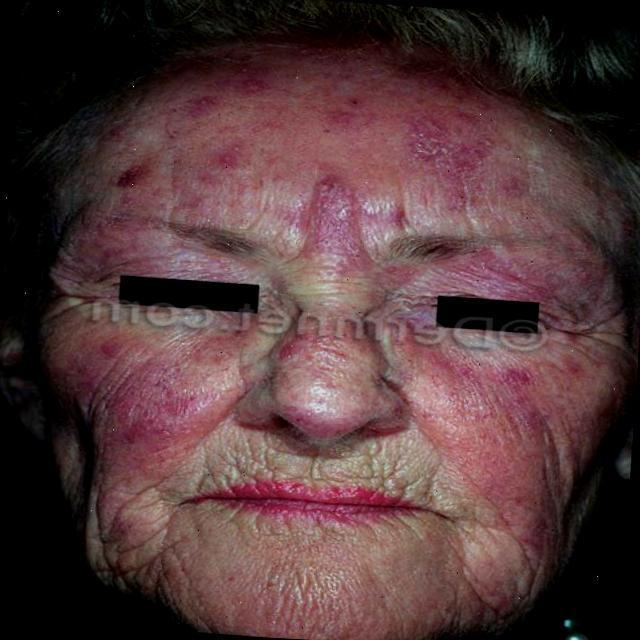skinredness: (0, 45, 640, 501)
